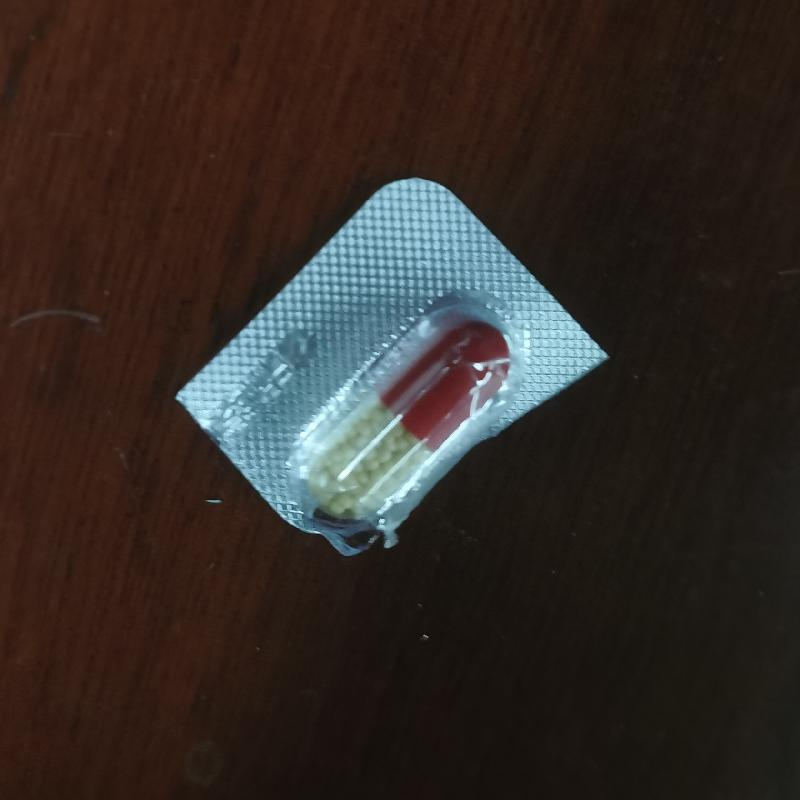pills: (298, 318, 518, 529)
